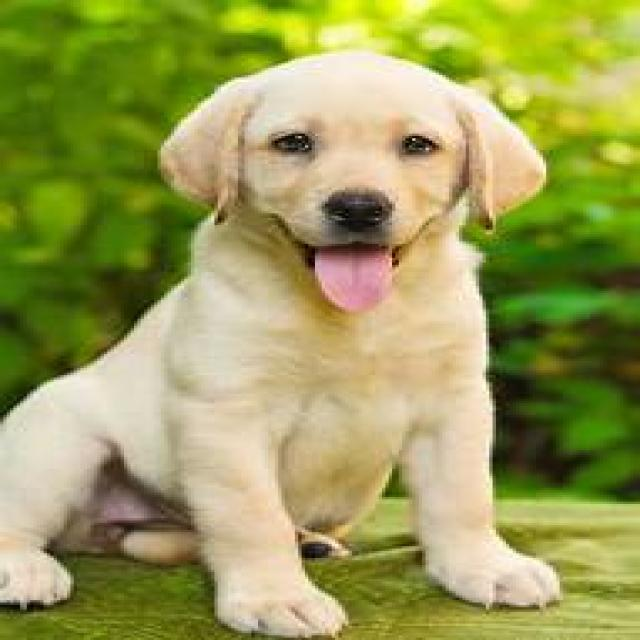dog: (2, 53, 559, 640)
